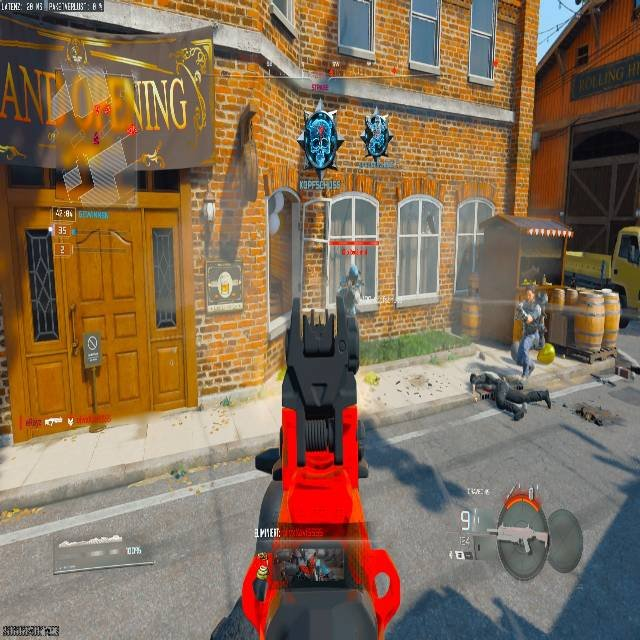head: (505, 400, 527, 421), (525, 290, 536, 303), (348, 265, 358, 277)
player: (298, 100, 344, 176), (335, 267, 367, 372), (513, 290, 547, 380), (359, 114, 392, 163), (337, 265, 363, 316), (344, 264, 360, 285)
